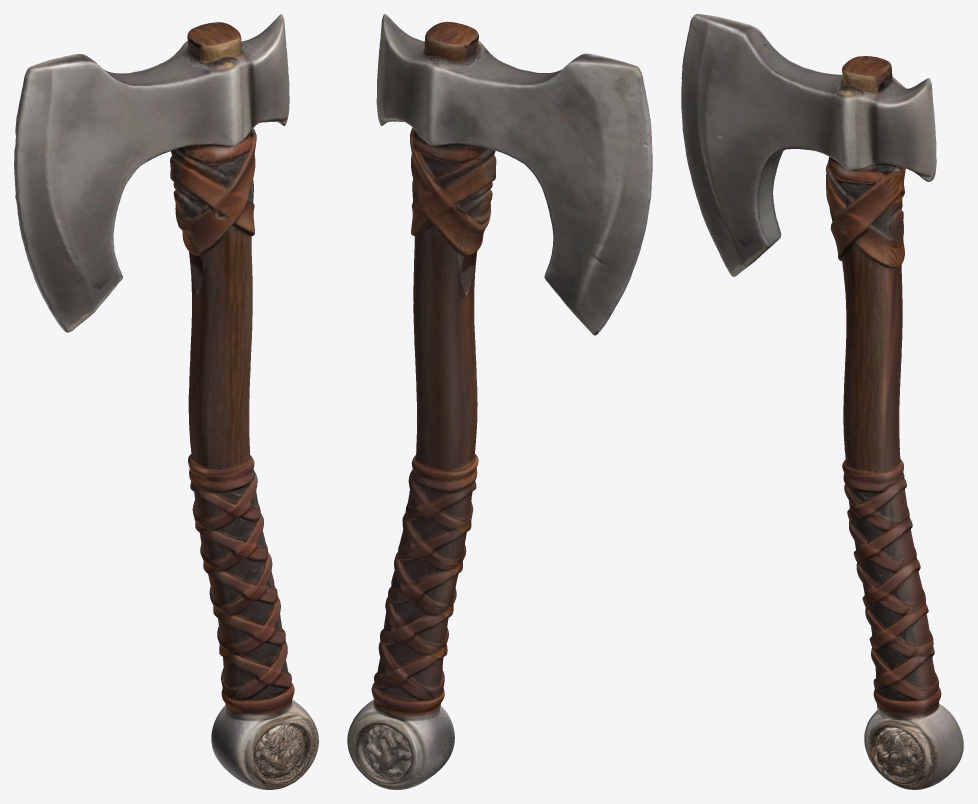
File: PF_Axe9.glb
3 renders of one model, left to right at view 1: azimuth 30°, elevation 25°; view 2: azimuth 150°, elevation 25°; view 3: azimuth 330°, elevation 25°, orthographic. The views are drawn at different scales.
Bounding box in the file's own units: 0.7608 × 1.9 × 0.1941.
1 material, 1 textured.
